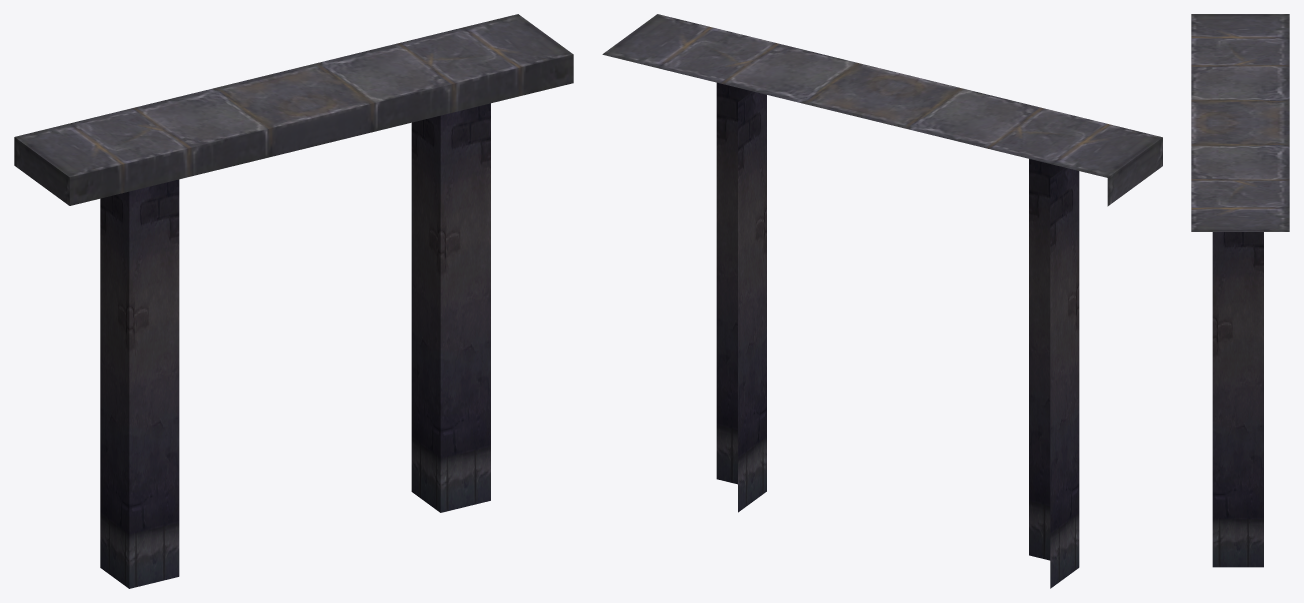
The model's file is building_underground_langzhu.FBX.
3 renders of one model, left to right at view 1: azimuth 30°, elevation 25°; view 2: azimuth 150°, elevation 25°; view 3: azimuth 270°, elevation 25°, orthographic. The views are drawn at different scales.
Visible parts, largest first — view 1: building_underground_langzhu; view 2: building_underground_langzhu; view 3: building_underground_langzhu.
Boxes of the visible parts, x1=… form: building_underground_langzhu: x1=14, y1=14, x2=573, y2=588; building_underground_langzhu: x1=602, y1=14, x2=1162, y2=588; building_underground_langzhu: x1=1191, y1=14, x2=1289, y2=567.
Bounding box in the file's own units: 26.75 × 22.21 × 5.09.
